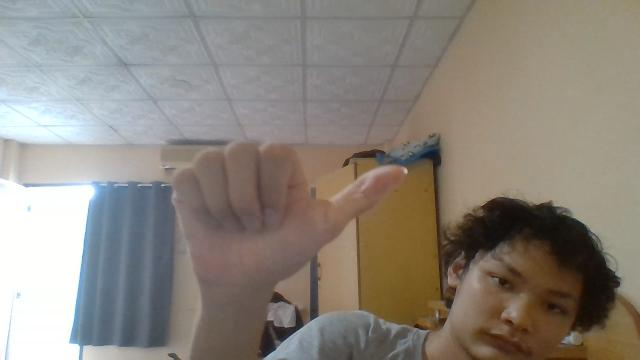left: (170, 138, 408, 298)
